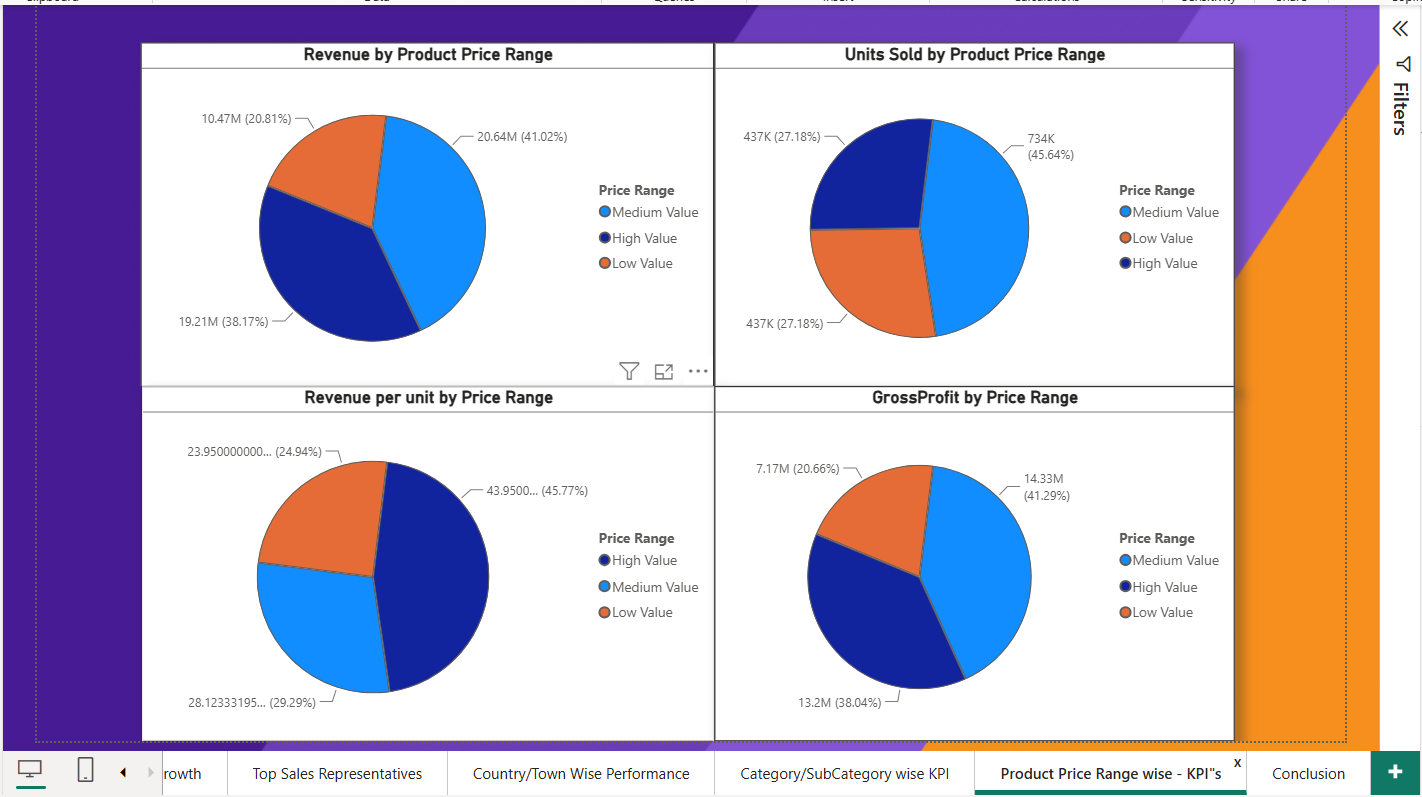

The page's visual inventory and layout, read from the dashboard file:
{"tool":"powerbi","page":{"name":"Product Price Range wise - KPI\"s","canvas":[1280,720],"ordinal":7},"visuals":[{"type":"pieChart","title":"Revenue by Product Price Range","fields":{"Y":["FactSales.TotalRevenue"],"Category":["Dimproducts.Price Range"]},"box":[102,36.1,561.1,337.2],"z":0},{"type":"pieChart","title":"Units Sold by Product Price Range","fields":{"Y":["Sum(FactSales.Units)"],"Category":["Dimproducts.Price Range"]},"box":[663.1,36.1,508.9,337.2],"z":1000},{"type":"pieChart","fields":{"Y":["FactSales.Revenue per unit"],"Category":["Dimproducts.Price Range"]},"box":[103.3,372.9,559.9,347.1],"z":2000},{"type":"pieChart","fields":{"Y":["FactSales.GrossProfit"],"Category":["Dimproducts.Price Range"]},"box":[663.1,372.9,508.9,347.1],"z":3000}]}

Visuals, with their boxes on the page's 1280x720 design canvas (x1, y1, x2, y2). These are canvas units, not pixel positions in the 1422x797 screenshot, which may show the page scaled, cropped or inside an application window:
"Revenue by Product Price Range" pieChart: bbox(102, 36, 663, 373)
"Units Sold by Product Price Range" pieChart: bbox(663, 36, 1172, 373)
pieChart - FactSales.Revenue per unit x Dimproducts.Price Range: bbox(103, 373, 663, 720)
pieChart - FactSales.GrossProfit x Dimproducts.Price Range: bbox(663, 373, 1172, 720)
